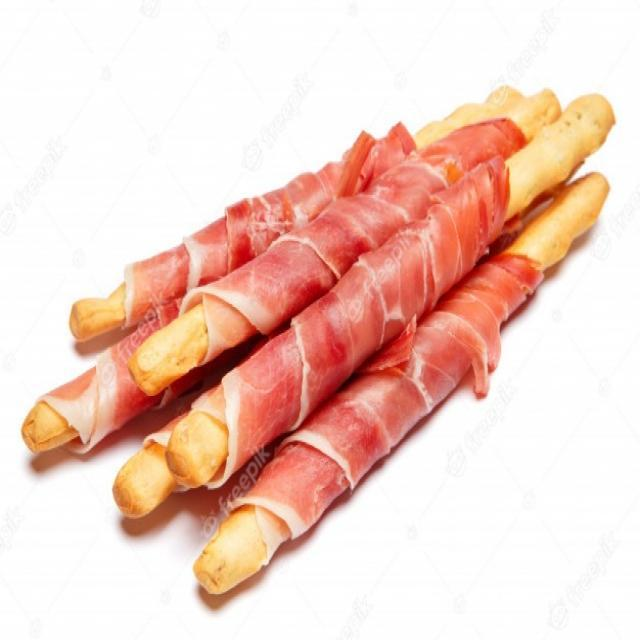Grissini: (33, 95, 625, 577)
